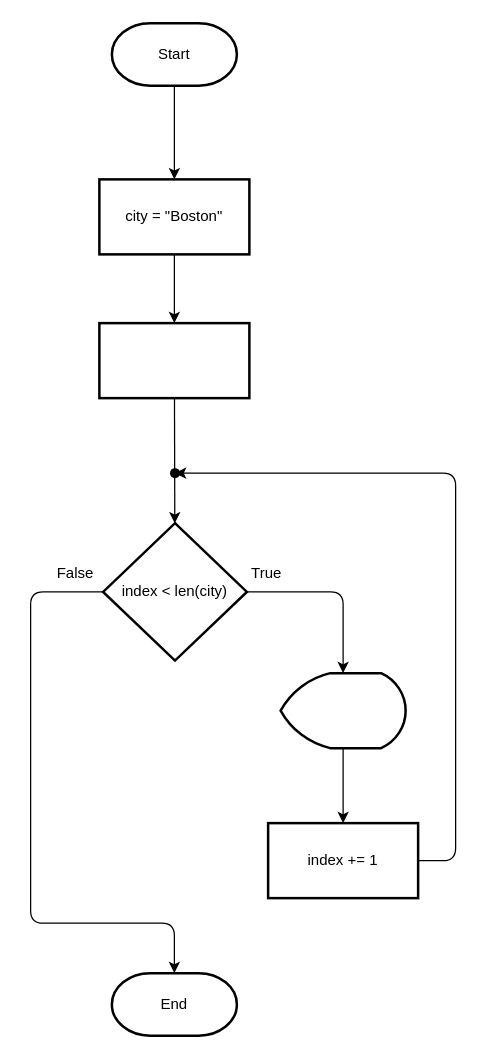
Some shapes in this 488 by 1058 pixel diagram are drawn without their labels. The shapes that lost their labels are listed below. From the top down, each one's centre as x and y in pixels, then its label:
At point 174,360: "index = 0".
At point 342,710: "city[index]".
